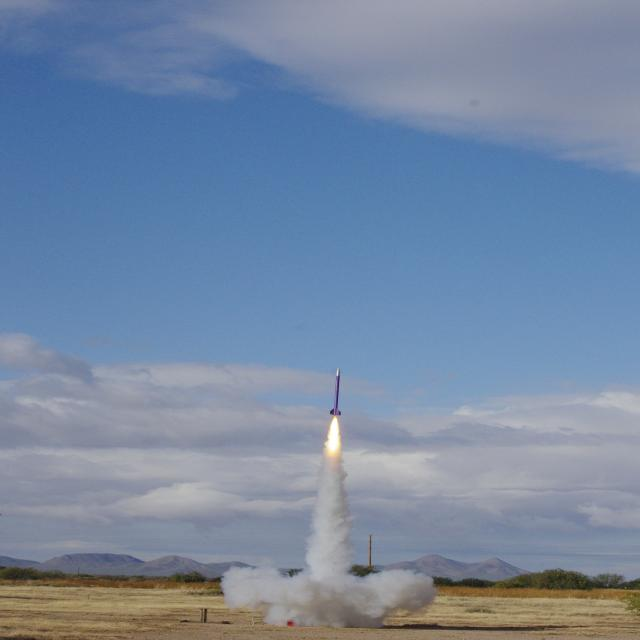Rocket: (330, 367, 341, 417)
